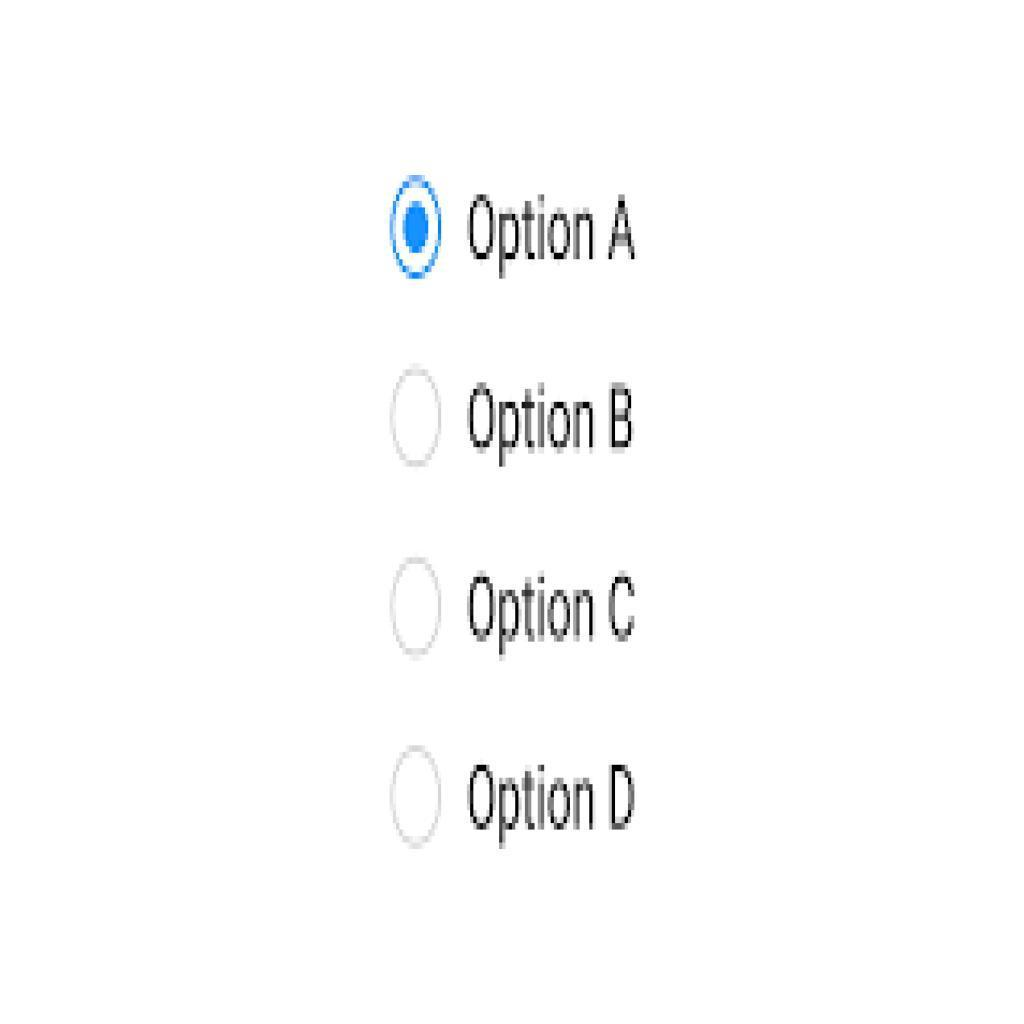label: (465, 754, 646, 853), (458, 377, 643, 473), (465, 178, 639, 279), (467, 564, 646, 660)
radio: (387, 740, 446, 855), (387, 167, 445, 281), (387, 555, 443, 662), (391, 363, 444, 471)
